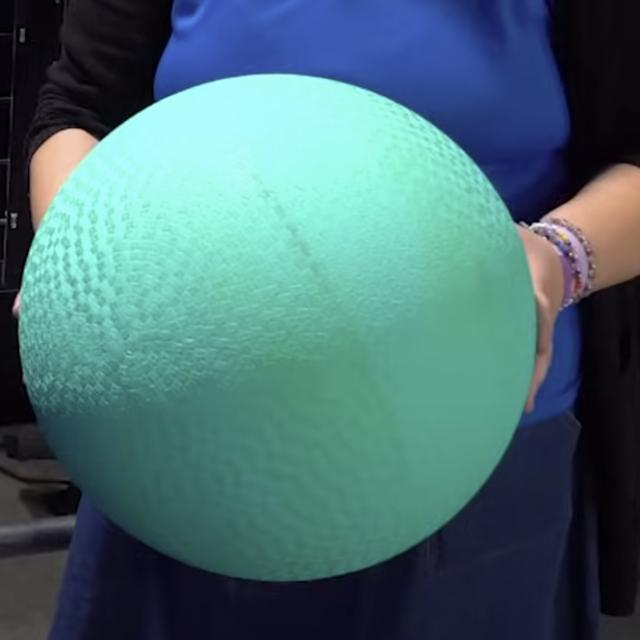Algae: (19, 74, 536, 582)
